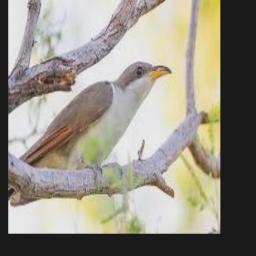Cuckoo: (17, 62, 171, 181)
